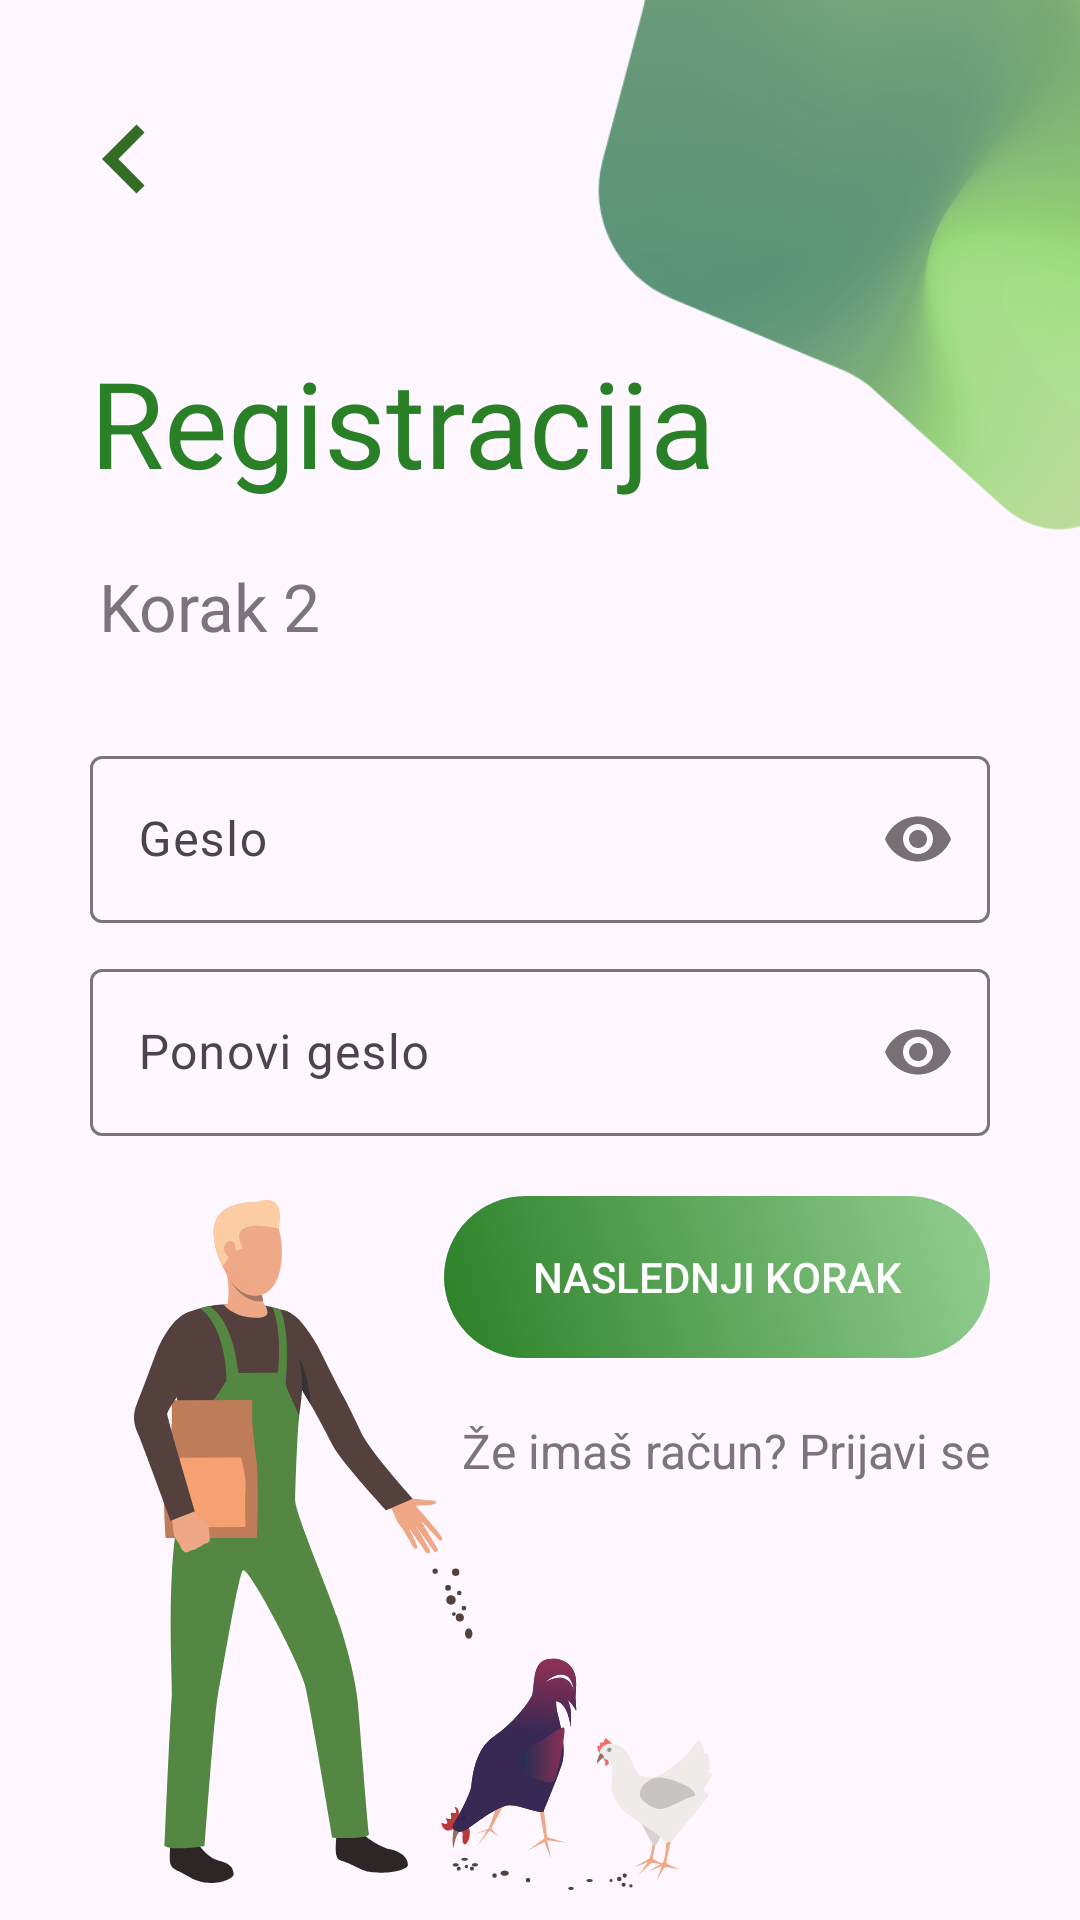

Locate icon controls on the screen. Image size 1080×1920, boxes as (x1, y1, x2, y2).
arrow left: (102, 124, 145, 194)
